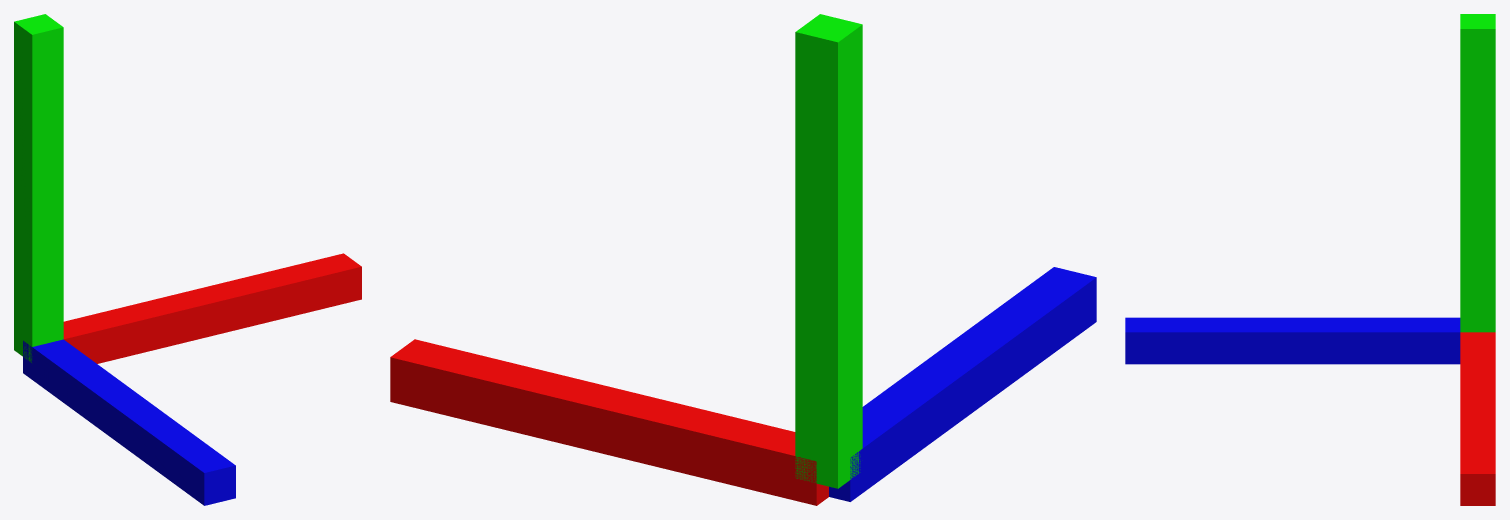
The model's file is gnomon.obj.
3 views of the same model, side by side, from view 1: azimuth 30°, elevation 25°; view 2: azimuth 150°, elevation 25°; view 3: azimuth 270°, elevation 25° (orthographic). The views are drawn at different scales.
Parts seen in each view (by area): view 1: y_axis, x_axis, z_axis; view 2: y_axis, x_axis, z_axis; view 3: z_axis, y_axis, x_axis.
Boxes of the visible parts, left/top/right/bottom form: y_axis: left=14, top=14, right=63, bottom=362; x_axis: left=63, top=253, right=361, bottom=363; z_axis: left=23, top=339, right=235, bottom=505; y_axis: left=795, top=14, right=862, bottom=488; x_axis: left=390, top=339, right=828, bottom=505; z_axis: left=829, top=267, right=1096, bottom=501; z_axis: left=1125, top=317, right=1460, bottom=364; y_axis: left=1460, top=14, right=1495, bottom=332; x_axis: left=1460, top=332, right=1495, bottom=505.
Size of the model in its own units: 1.05 by 1.05 by 1.05.
